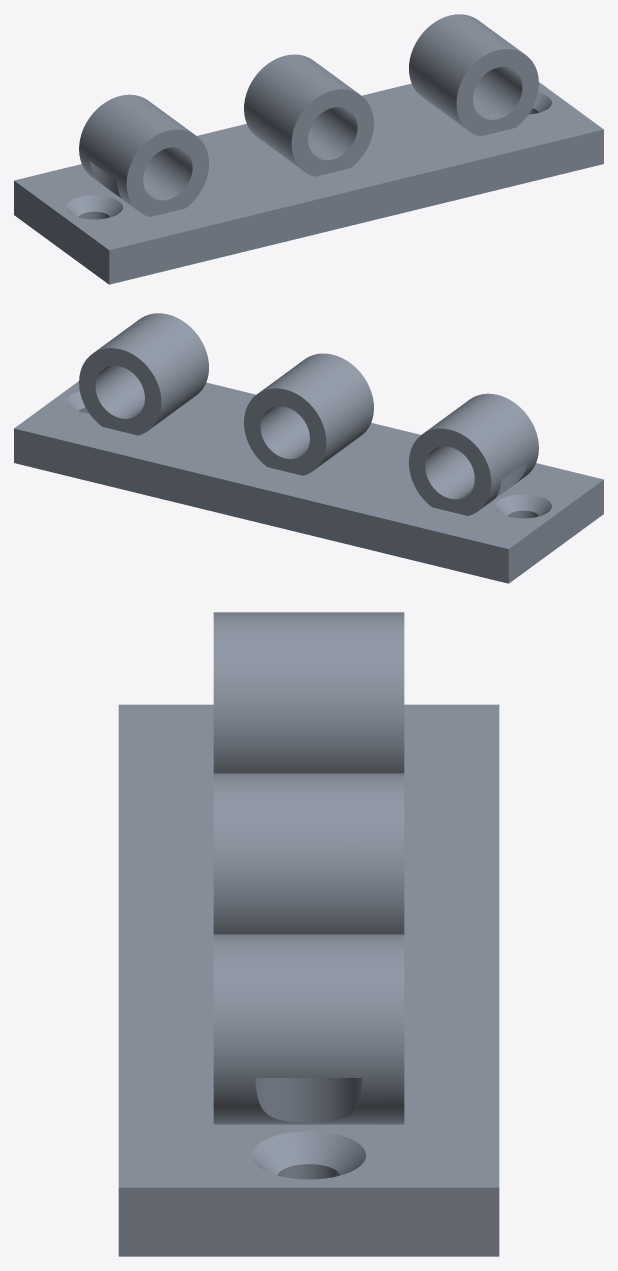
File: step-2-preview-2.glb
The picture shows the model from 3 angles, top to bottom: view 1: azimuth 30°, elevation 25°; view 2: azimuth 150°, elevation 25°; view 3: azimuth 270°, elevation 25°; orthographic projection. The views are drawn at different scales.
Parts seen in each view (by area): view 1: preview_2, preview_9, preview_13, preview_16, preview_0, preview_14, preview_3, preview_17, preview_7, preview_6, preview_21, preview_22 (+2 smaller); view 2: preview_2, preview_8, preview_13, preview_16, preview_0, preview_12, preview_1, preview_15, preview_7, preview_6, preview_21, preview_22 (+2 smaller); view 3: preview_2, preview_16, preview_0, preview_13, preview_10, preview_24, preview_18.
Part boxes in pixels (bbox=[...]): preview_2: bbox=[14, 82, 603, 250]; preview_9: bbox=[109, 129, 603, 284]; preview_13: bbox=[244, 54, 358, 169]; preview_16: bbox=[409, 14, 523, 129]; preview_0: bbox=[79, 94, 194, 210]; preview_14: bbox=[291, 89, 373, 176]; preview_3: bbox=[126, 129, 208, 216]; preview_17: bbox=[456, 49, 538, 136]; preview_7: bbox=[14, 181, 109, 284]; preview_6: bbox=[143, 147, 192, 200]; preview_21: bbox=[308, 107, 357, 160]; preview_22: bbox=[473, 66, 522, 119]; preview_2: bbox=[14, 381, 603, 549]; preview_8: bbox=[14, 428, 508, 583]; preview_13: bbox=[259, 353, 373, 468]; preview_16: bbox=[94, 313, 208, 428]; preview_0: bbox=[423, 393, 538, 509]; preview_12: bbox=[244, 388, 326, 475]; preview_1: bbox=[409, 428, 491, 515]; preview_15: bbox=[79, 348, 161, 435]; preview_7: bbox=[508, 480, 603, 583]; preview_6: bbox=[425, 446, 474, 499]; preview_21: bbox=[260, 406, 309, 459]; preview_22: bbox=[95, 365, 144, 418]; preview_2: bbox=[118, 704, 499, 1187]; preview_16: bbox=[213, 934, 404, 1124]; preview_0: bbox=[213, 612, 404, 773]; preview_13: bbox=[213, 773, 404, 934]; preview_10: bbox=[118, 1187, 499, 1256]; preview_24: bbox=[255, 1078, 362, 1122]; preview_18: bbox=[252, 1131, 365, 1175].
Size of the model in its own units: 0.06 by 0.0135 by 0.02.
